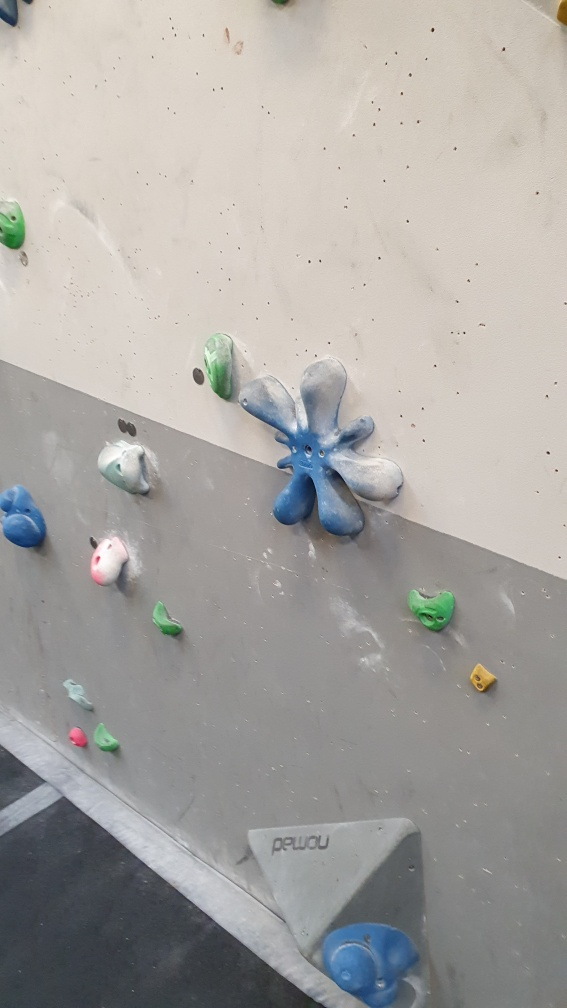Hand Start: (191, 367, 206, 389)
Jug: (199, 331, 240, 402), (407, 585, 456, 638), (91, 539, 134, 589), (118, 437, 152, 500), (152, 603, 185, 644), (92, 720, 126, 756)
Octopus Pinch: (234, 353, 406, 541)
Sloper: (321, 917, 428, 1007), (1, 483, 57, 551)
